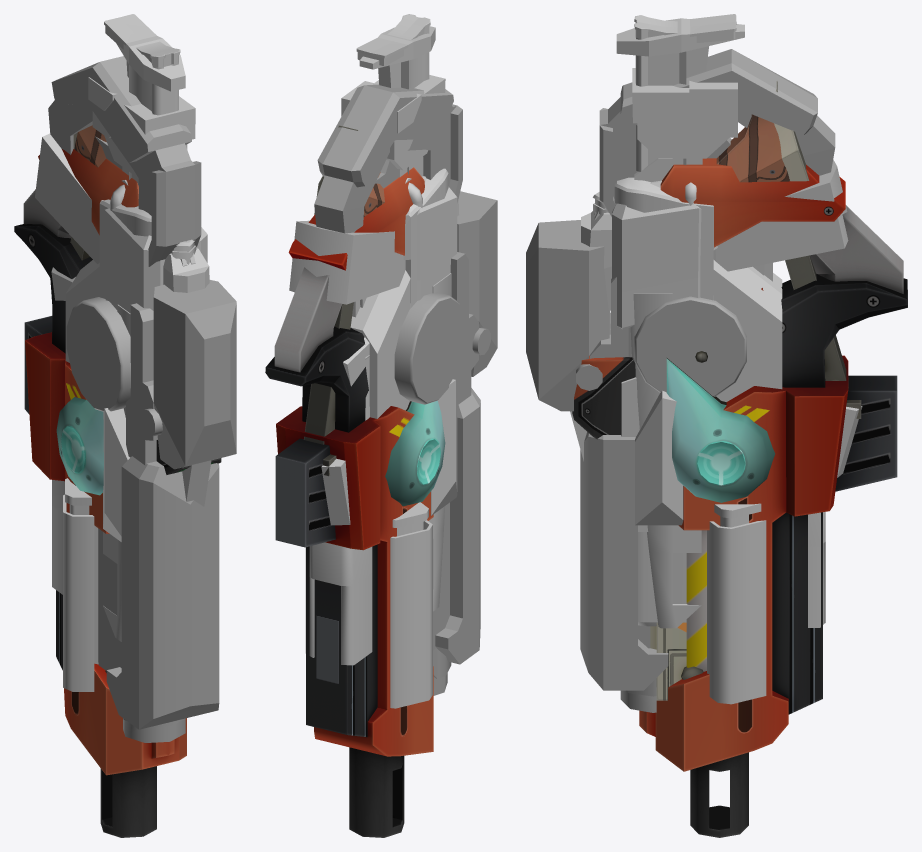
The model's file is Gun.fbx.
The picture shows the model from 3 angles, left to right: view 1: azimuth 30°, elevation 25°; view 2: azimuth 150°, elevation 25°; view 3: azimuth 270°, elevation 25°; orthographic projection. The views are drawn at different scales.
Visible parts, largest first — view 1: Gun3, Gun2, Gun6, Gun7, Gun5, Gun1; view 2: Gun2, Gun3, Gun7, Gun6, Gun1, Gun5; view 3: Gun2, Gun3, Gun7, Gun6, Gun1, Gun5.
Boxes of the visible parts, x1,y1,x2,y2 form: Gun3: (48,56,236,742); Gun2: (14,149,221,837); Gun6: (35,36,211,541); Gun7: (52,77,196,691); Gun5: (51,14,195,300); Gun1: (56,125,106,672); Gun2: (265,167,433,837); Gun3: (314,84,497,695); Gun7: (305,75,451,708); Gun6: (289,26,459,525); Gun1: (303,125,445,506); Gun5: (343,14,448,410); Gun2: (572,158,907,837); Gun3: (526,49,835,712); Gun7: (593,68,825,704); Gun6: (570,18,862,531); Gun1: (650,81,861,700); Gun5: (594,14,736,626).
Size of the model in its own units: 1.99 by 13.13 by 5.65.
